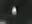person: (12, 5, 18, 17)
